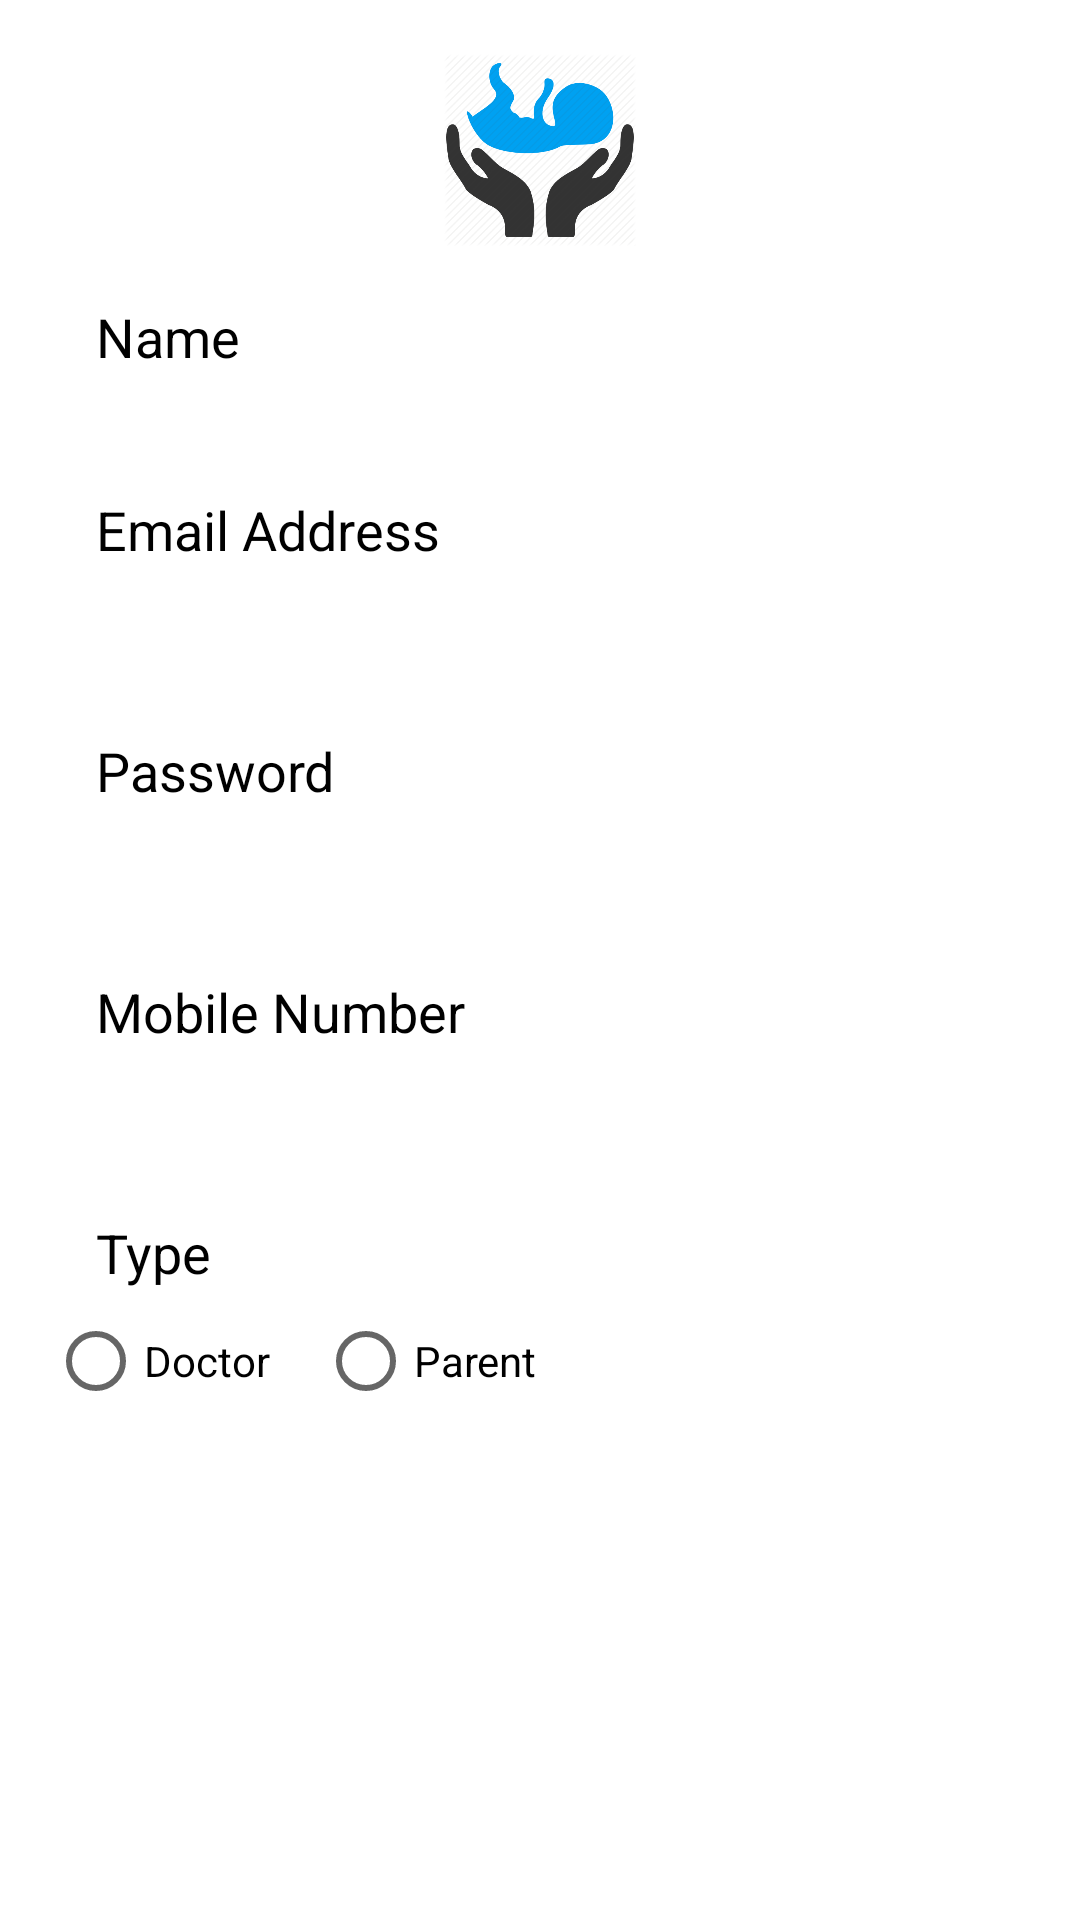

Named icons in this screenshot (1080 × 1920) and their centers, (x,y):
child helth: (540,150)
